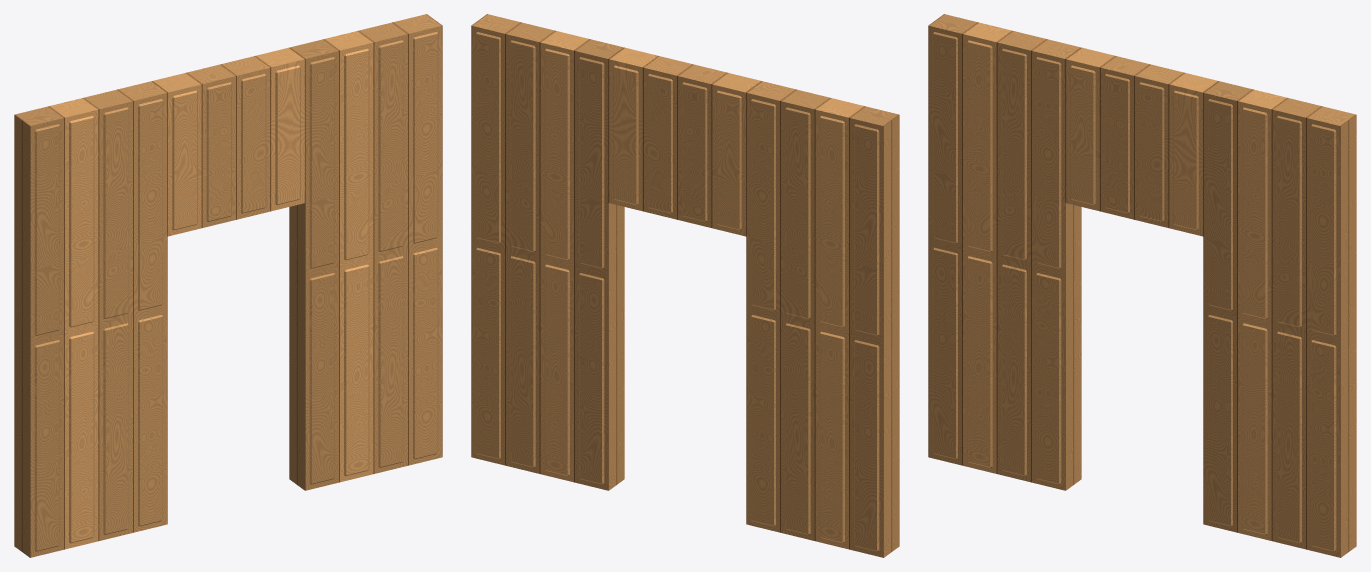
The model's file is Kit_Wood_WallDoor.fbx.
The picture shows the model from 3 angles, left to right: view 1: azimuth 30°, elevation 25°; view 2: azimuth 150°, elevation 25°; view 3: azimuth 330°, elevation 25°; orthographic projection.
Parts seen in each view (by area): view 1: Kit_Wood_WallDoor_LOD0; view 2: Kit_Wood_WallDoor_LOD0; view 3: Kit_Wood_WallDoor_LOD0.
Boxes of the visible parts, bbox=[...] form: Kit_Wood_WallDoor_LOD0: bbox=[14, 14, 442, 557]; Kit_Wood_WallDoor_LOD0: bbox=[471, 14, 899, 557]; Kit_Wood_WallDoor_LOD0: bbox=[928, 14, 1356, 557].
Size of what is drawn, in the model's own units: 3 by 3 by 0.22.
